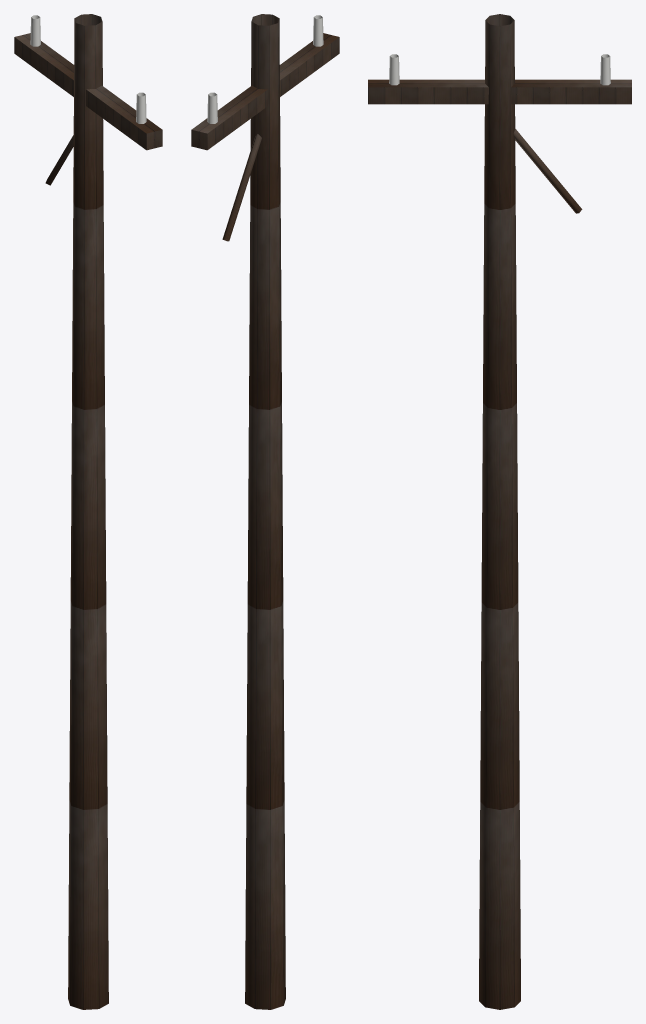
Rendered from pole0.fbx.
3 renders of one model, left to right at view 1: azimuth 30°, elevation 25°; view 2: azimuth 150°, elevation 25°; view 3: azimuth 270°, elevation 25°, orthographic.
Parts seen in each view (by area): view 1: pole0; view 2: pole0; view 3: pole0.
Part boxes in pixels (left/top/right/bottom): pole0: left=14, top=14, right=162, bottom=1009; pole0: left=191, top=14, right=339, bottom=1009; pole0: left=368, top=14, right=631, bottom=1009.
Size of the model in its own units: 0.32 by 8.2 by 2.
2 materials, 1 textured.
